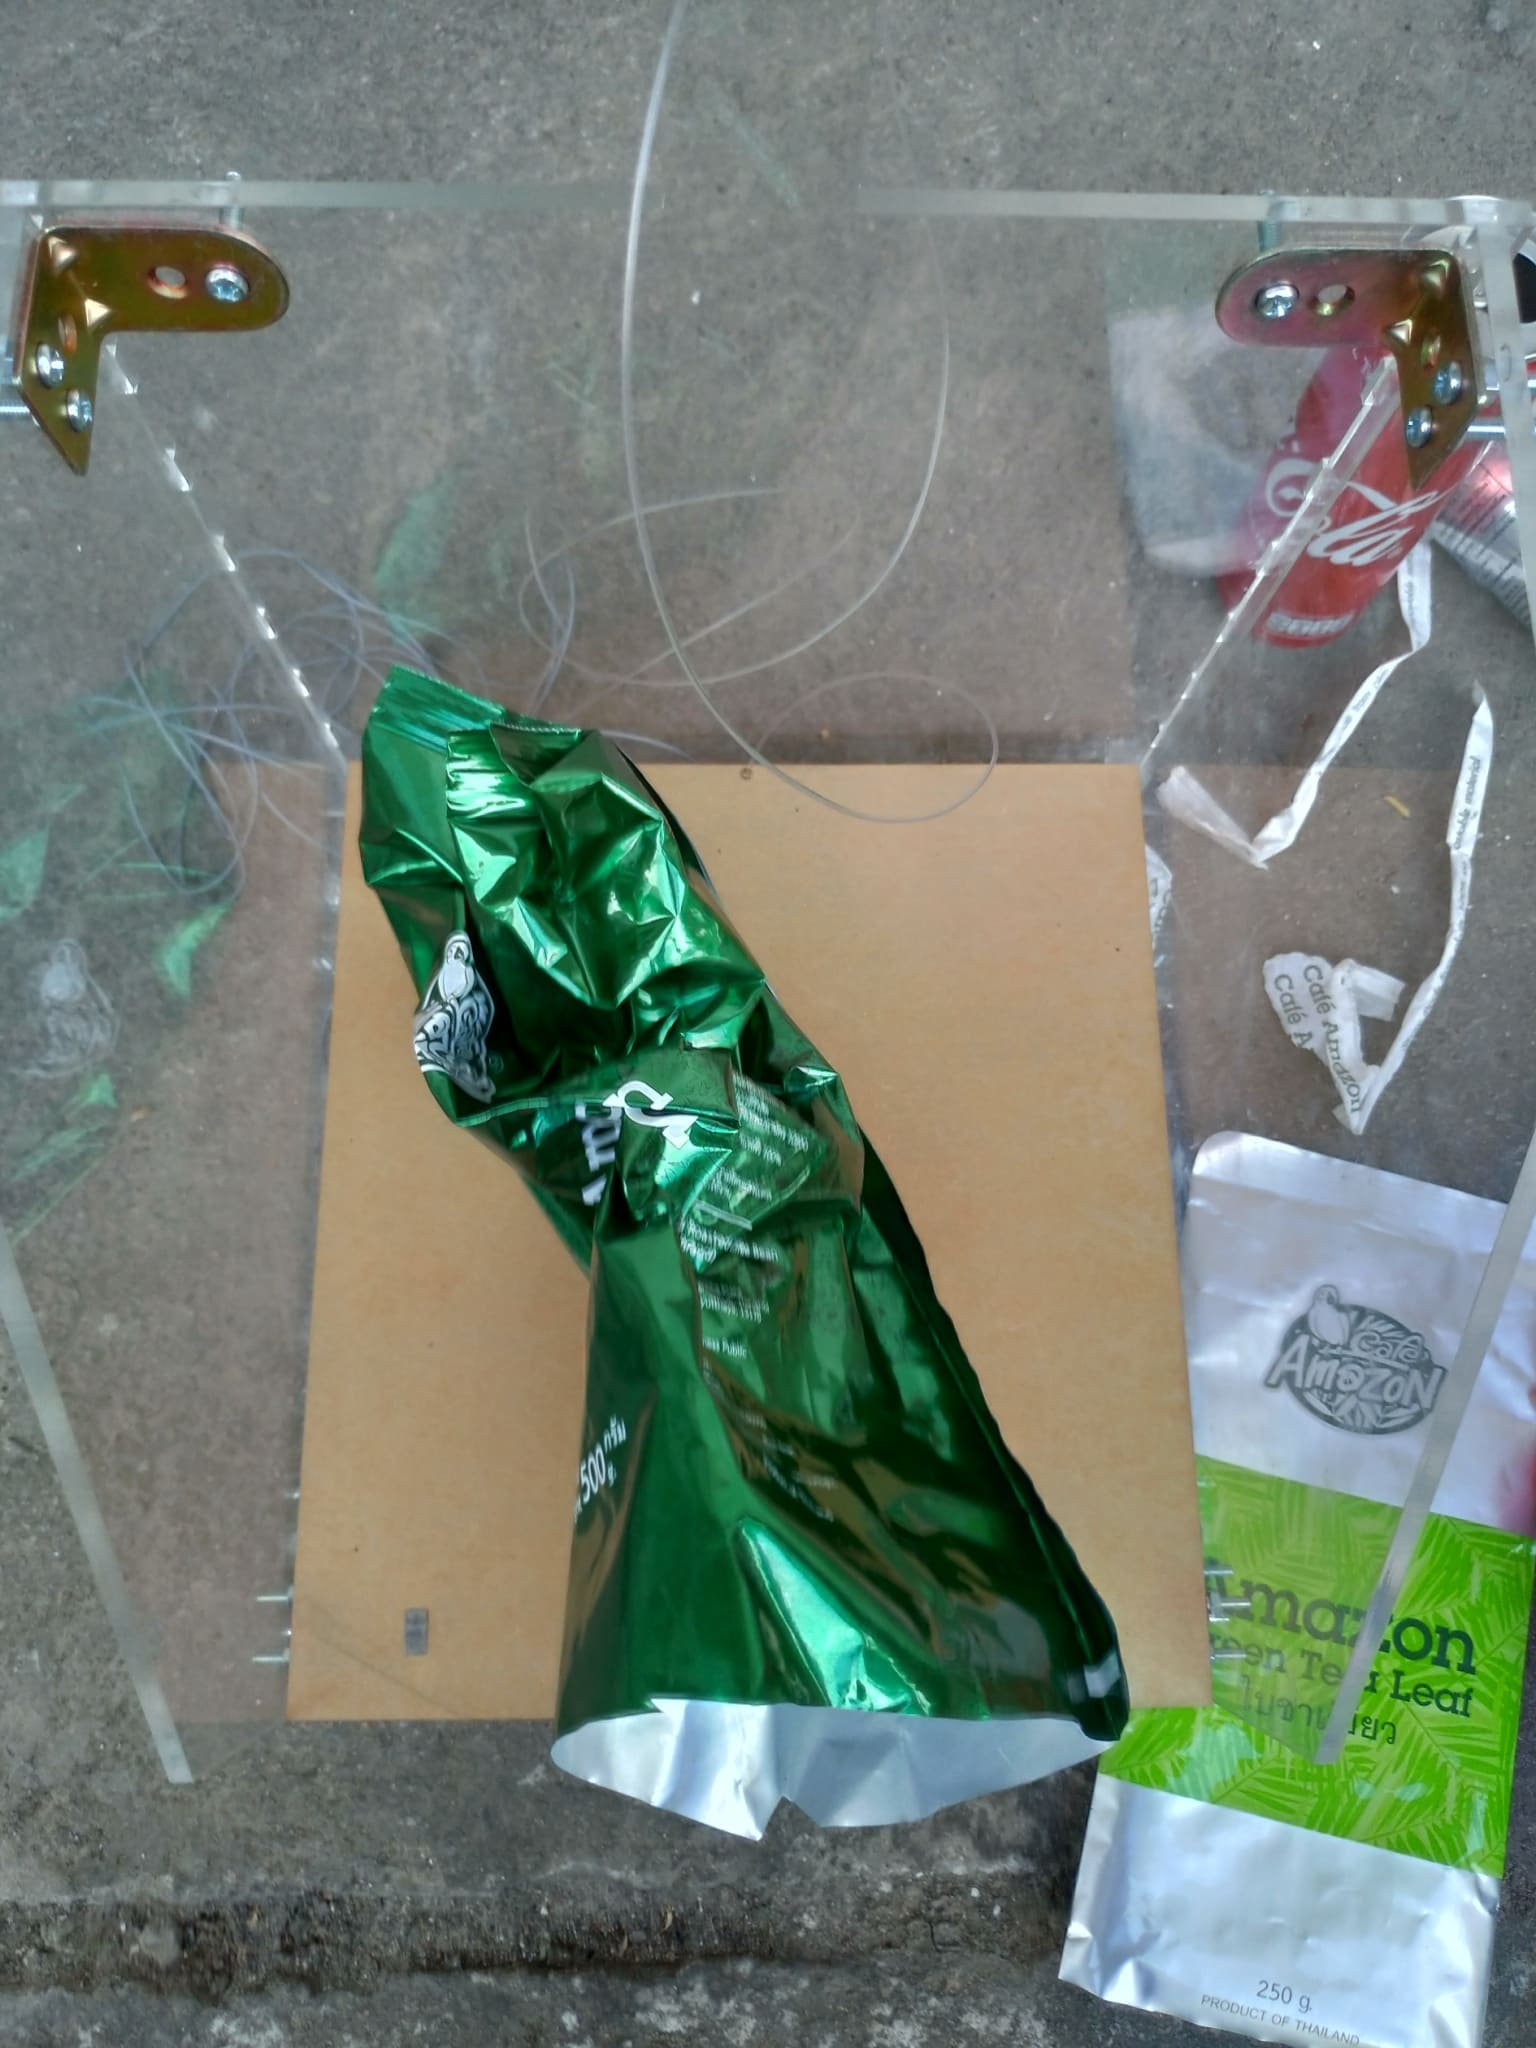AlCan: (1207, 223, 1536, 664)
Others: (369, 661, 1141, 1830), (1047, 1127, 1533, 2030)
